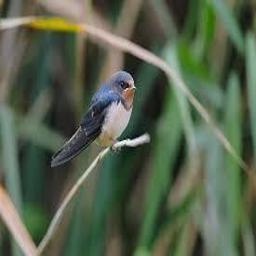Swallow: (49, 71, 136, 167)
